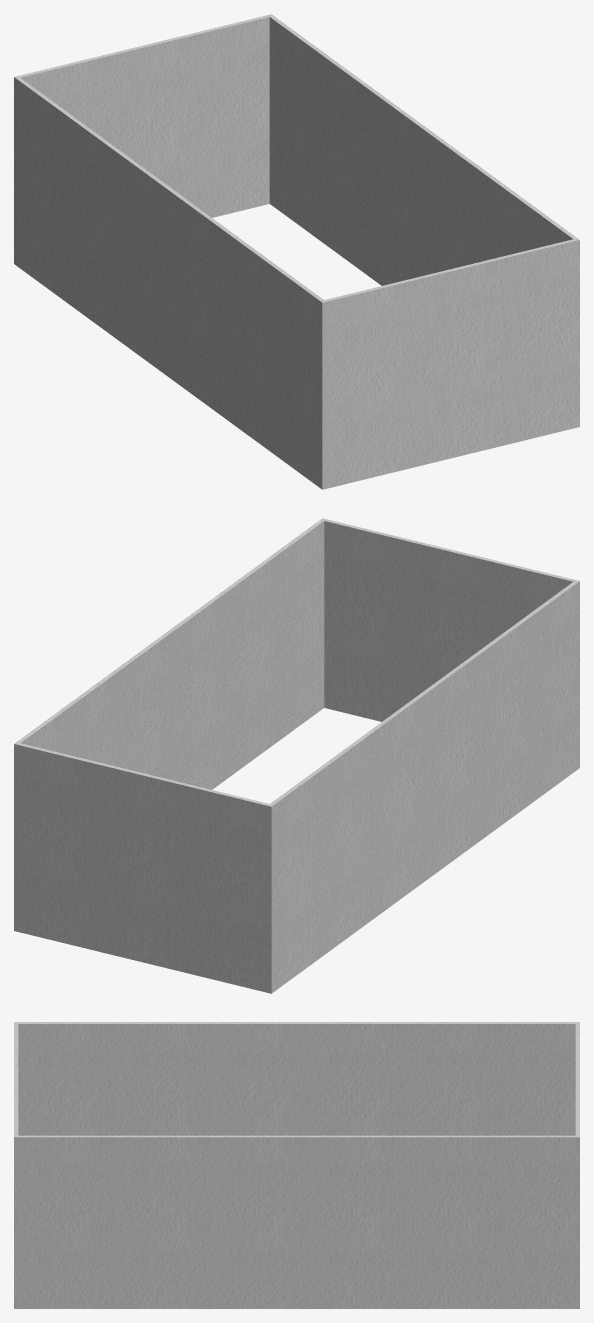
The model's file is interior.glb.
3 views of the same model, one above another, from view 1: azimuth 30°, elevation 25°; view 2: azimuth 150°, elevation 25°; view 3: azimuth 270°, elevation 25° (orthographic). The views are drawn at different scales.
Visible parts, largest first — view 1: interior_wall; view 2: interior_wall; view 3: interior_wall.
Boxes of the visible parts, <box> form: interior_wall: <box>14,14,579,489</box>; interior_wall: <box>14,518,579,993</box>; interior_wall: <box>14,1022,579,1308</box>.
Size of the model in its own units: 3.57 by 2.48 by 7.4.
Materials: 1 (1 with a texture image).
